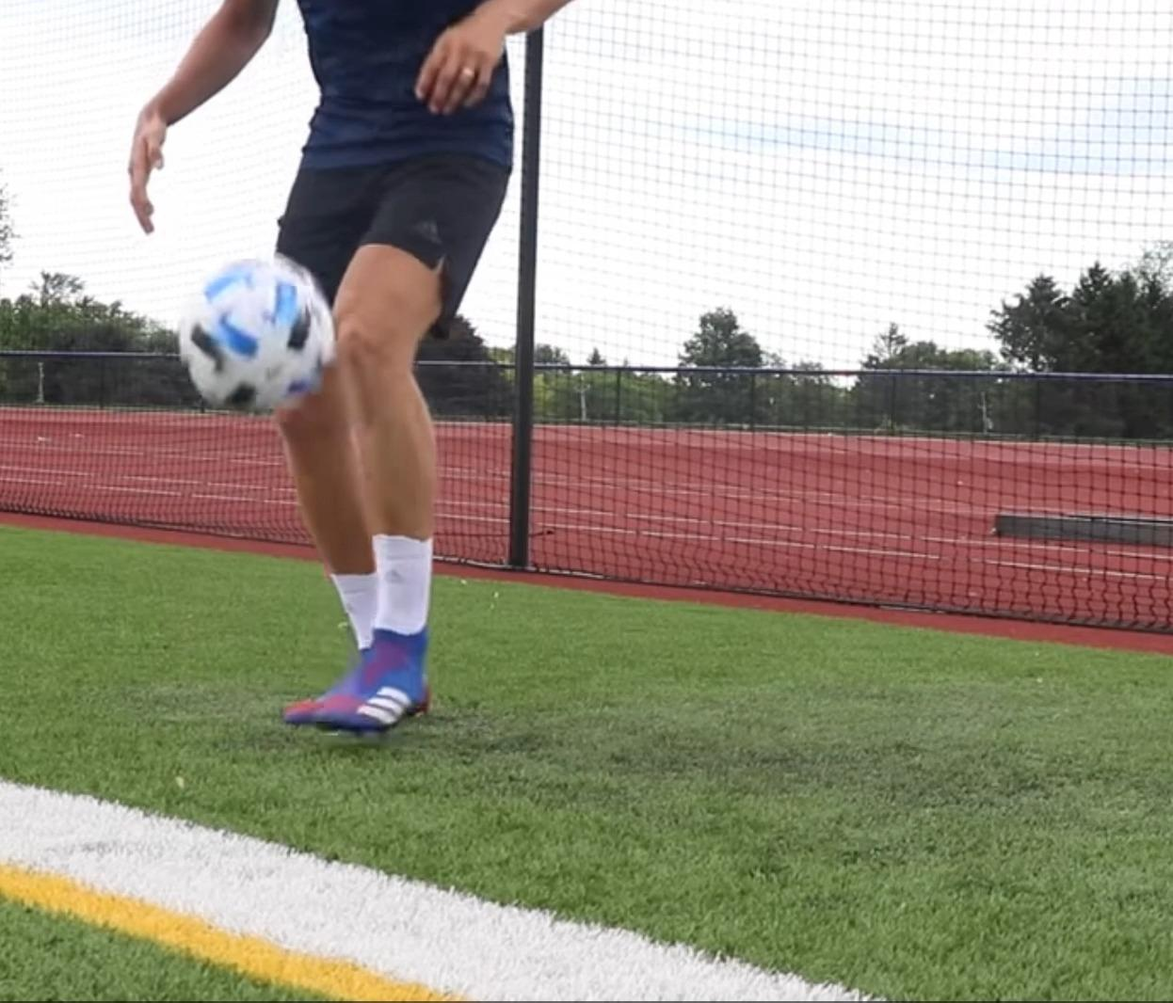ball: (178, 254, 332, 411)
foot: (303, 626, 438, 740)
person: (125, 0, 565, 736)
